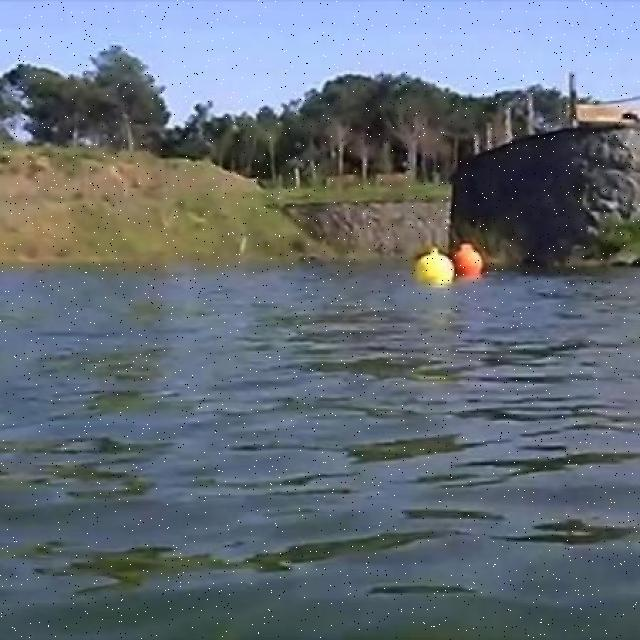buoy: (414, 248, 454, 284), (454, 242, 484, 279)
